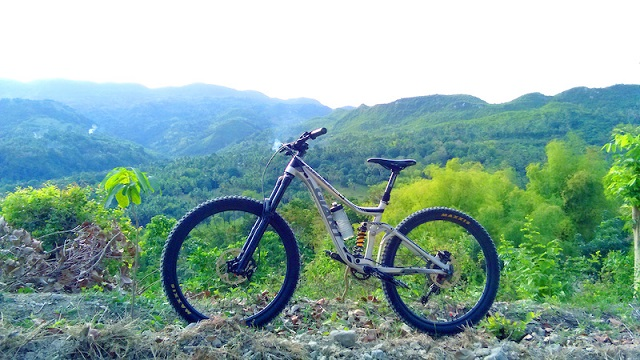bike: (163, 129, 499, 339)
